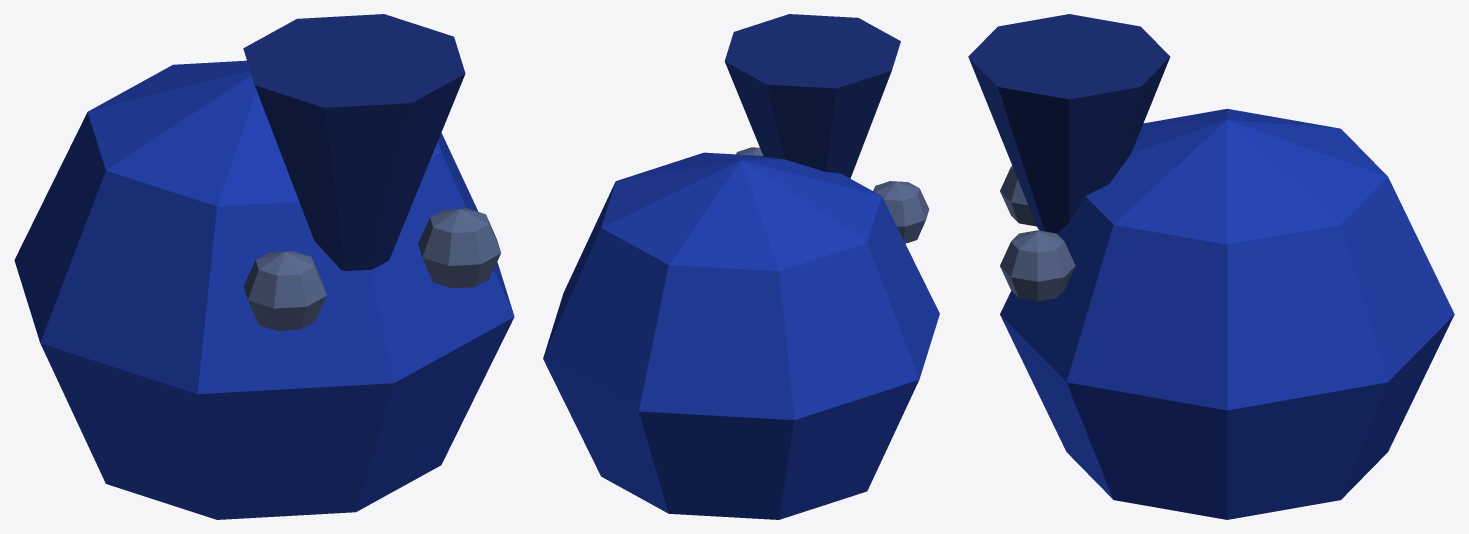
Rendered from SM_Monster_10002_Spitter.glb.
The picture shows the model from 3 angles, left to right: view 1: azimuth 30°, elevation 25°; view 2: azimuth 150°, elevation 25°; view 3: azimuth 270°, elevation 25°; orthographic projection. The views are drawn at different scales.
Parts seen in each view (by area): view 1: SM_Monster_10002_Spitter; view 2: SM_Monster_10002_Spitter; view 3: SM_Monster_10002_Spitter.
Part boxes in pixels (x1,y1,x2,y2): SM_Monster_10002_Spitter: (14,14,514,519); SM_Monster_10002_Spitter: (543,14,939,519); SM_Monster_10002_Spitter: (968,14,1454,519).
Size of the model in its own units: 0.72 by 0.79 by 0.77.
